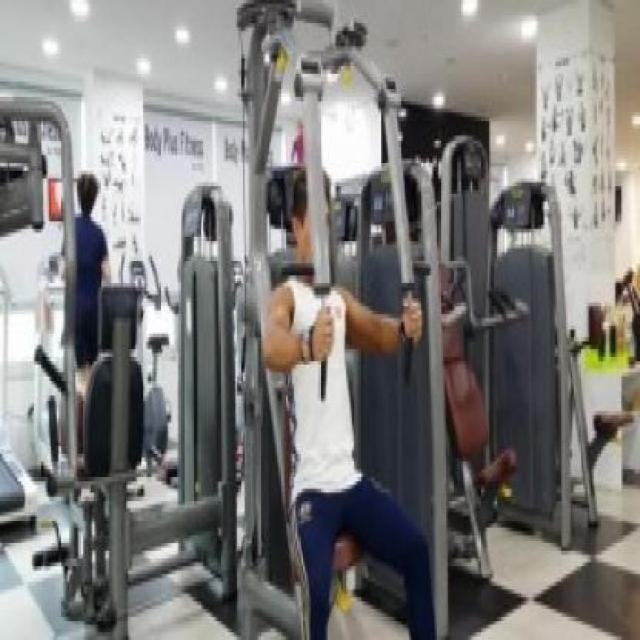chest fly machine: (223, 0, 449, 640)
